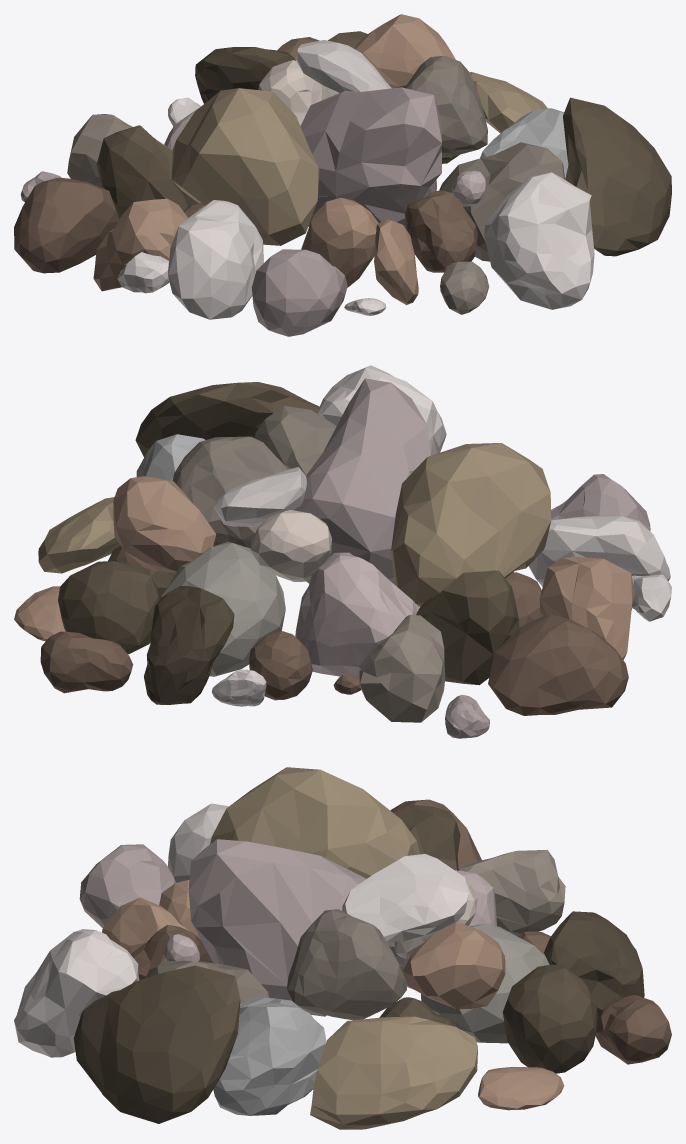
Rendered from Rock_Pile.fbx.
The picture shows the model from 3 angles, top to bottom: view 1: azimuth 30°, elevation 25°; view 2: azimuth 150°, elevation 25°; view 3: azimuth 270°, elevation 25°; orthographic projection. The views are drawn at different scales.
Visible parts, largest first — view 1: MASH1_ReproMesh1; view 2: MASH1_ReproMesh1; view 3: MASH1_ReproMesh1.
Boxes of the visible parts, x1,y1,x2,y2 form: MASH1_ReproMesh1: (14, 14, 671, 336); MASH1_ReproMesh1: (14, 365, 671, 738); MASH1_ReproMesh1: (14, 767, 671, 1129).
Size of the model in its own units: 41.25 by 13.08 by 40.58.
